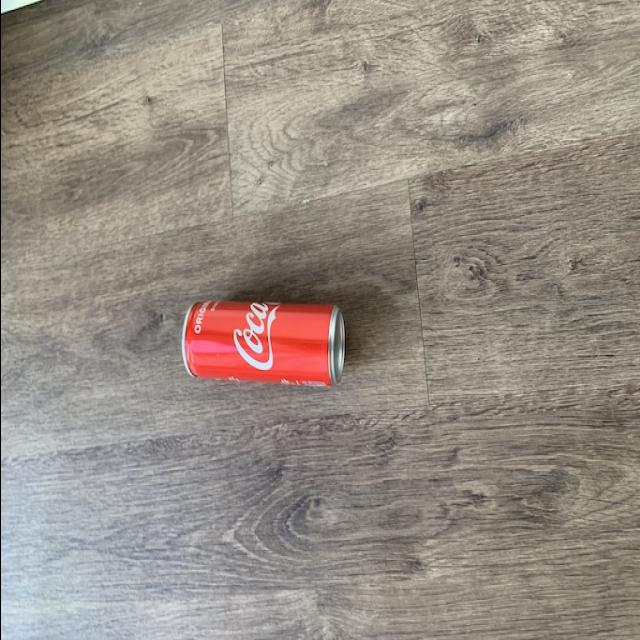litter: (154, 248, 384, 418)
